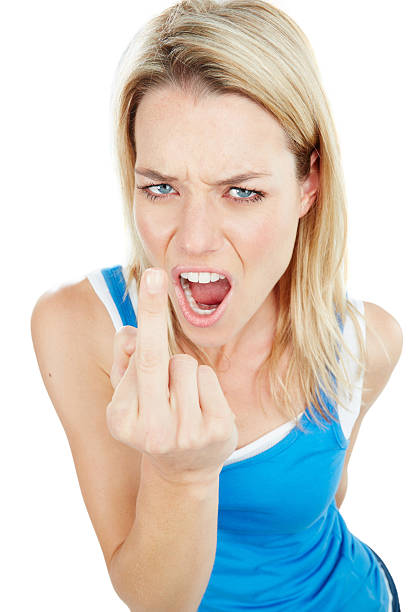insulting_gesture: (105, 267, 239, 481)
